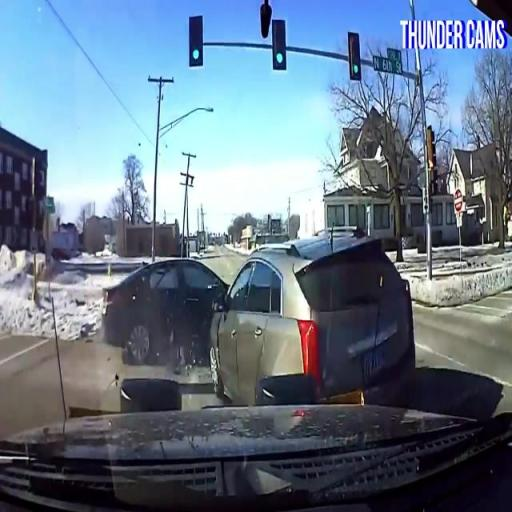小汽车撞小汽车: (98, 240, 418, 402)
